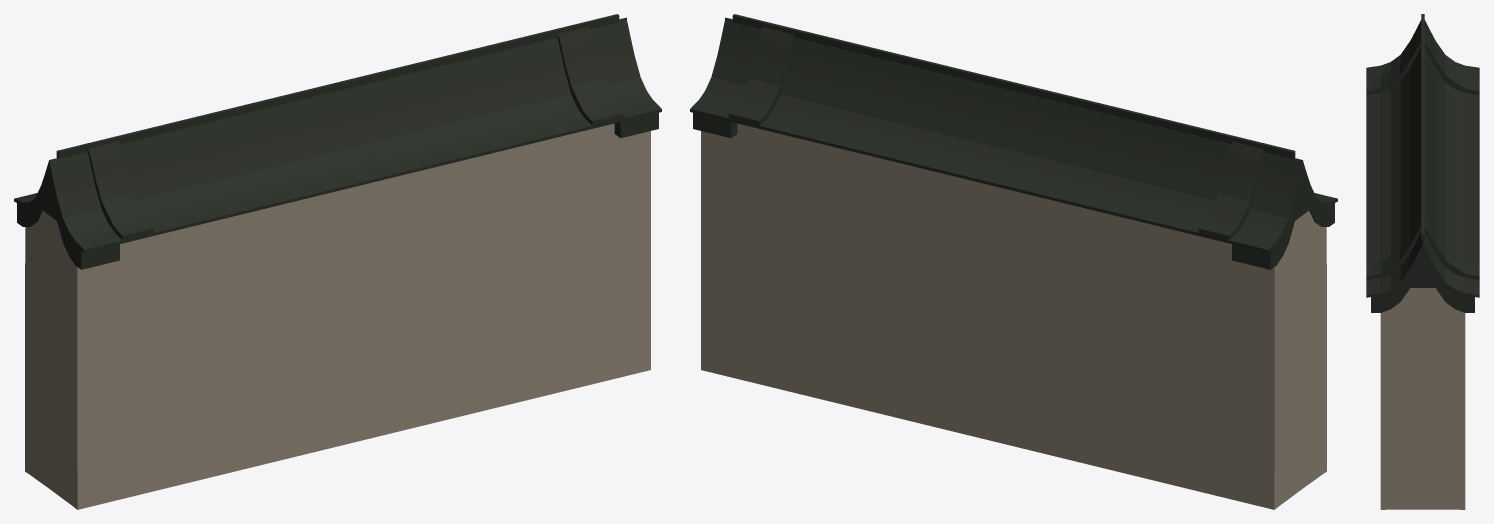
Rendered from sanmonWall.obj.
The picture shows the model from 3 angles, left to right: view 1: azimuth 30°, elevation 25°; view 2: azimuth 150°, elevation 25°; view 3: azimuth 270°, elevation 25°; orthographic projection. The views are drawn at different scales.
Parts seen in each view (by area): view 1: 円柱.002; view 2: 円柱.002; view 3: 円柱.002.
Boxes of the visible parts, x1=… form: 円柱.002: x1=14, y1=14, x2=661, y2=509; 円柱.002: x1=690, y1=14, x2=1337, y2=509; 円柱.002: x1=1366, y1=14, x2=1479, y2=509.
Size of the model in its own units: 14.11 by 7.88 by 2.96.
2 materials, 2 textured.
